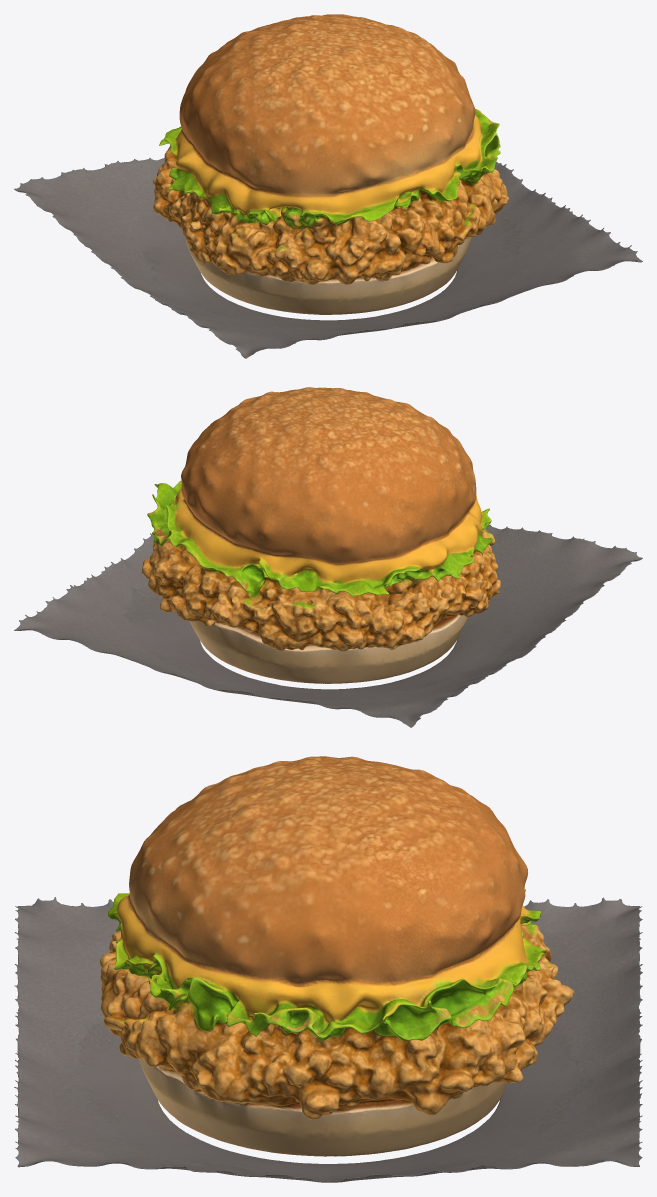
File: Meshy_AI_Crispy_Chicken_Burger_0921044934_texture.glb
The picture shows the model from 3 angles, top to bottom: view 1: azimuth 30°, elevation 25°; view 2: azimuth 150°, elevation 25°; view 3: azimuth 270°, elevation 25°; orthographic projection. The views are drawn at different scales.
Size of the model in its own units: 1.9 by 1.02 by 1.91.
Materials: 1 (1 with a texture image).
